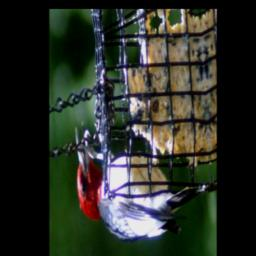Woodpecker: (72, 82, 215, 256)
